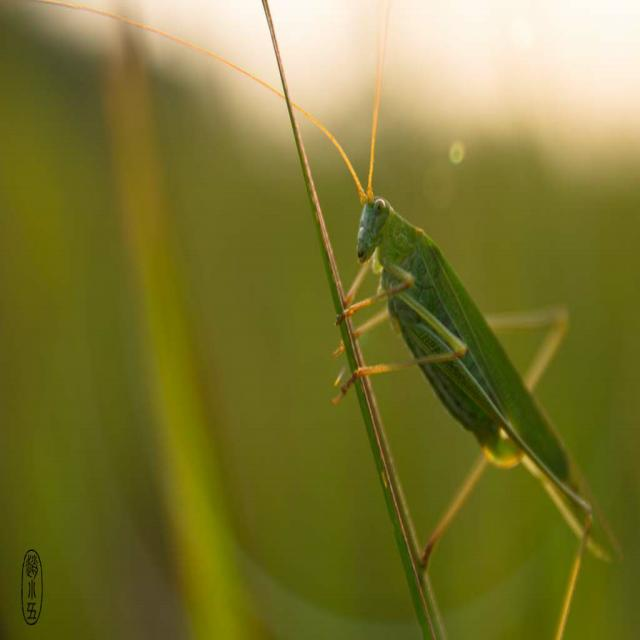ZhaMeng: (312, 124, 615, 561)
